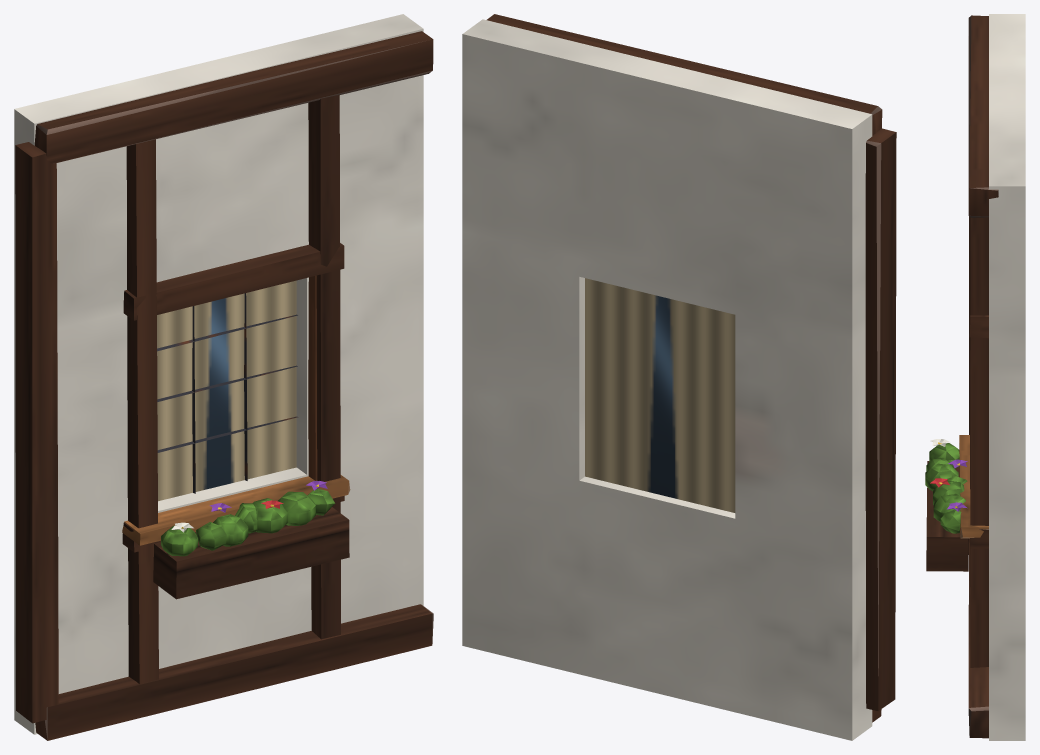
Rendered from SM_Mod_Wall_Timber_Window_LOD1.gltf.
3 views of the same model, side by side, from view 1: azimuth 30°, elevation 25°; view 2: azimuth 150°, elevation 25°; view 3: azimuth 270°, elevation 25° (orthographic). The views are drawn at different scales.
Parts seen in each view (by area): view 1: SM_Mod_Wall_Timber_Window_LOD1; view 2: SM_Mod_Wall_Timber_Window_LOD1; view 3: SM_Mod_Wall_Timber_Window_LOD1.
Boxes of the visible parts, bbox=[...] form: SM_Mod_Wall_Timber_Window_LOD1: bbox=[14, 14, 433, 740]; SM_Mod_Wall_Timber_Window_LOD1: bbox=[462, 14, 896, 740]; SM_Mod_Wall_Timber_Window_LOD1: bbox=[925, 14, 1025, 740].
Size of the model in its own units: 2.08 by 3 by 0.4908.
Materials: 1 (1 with a texture image).
